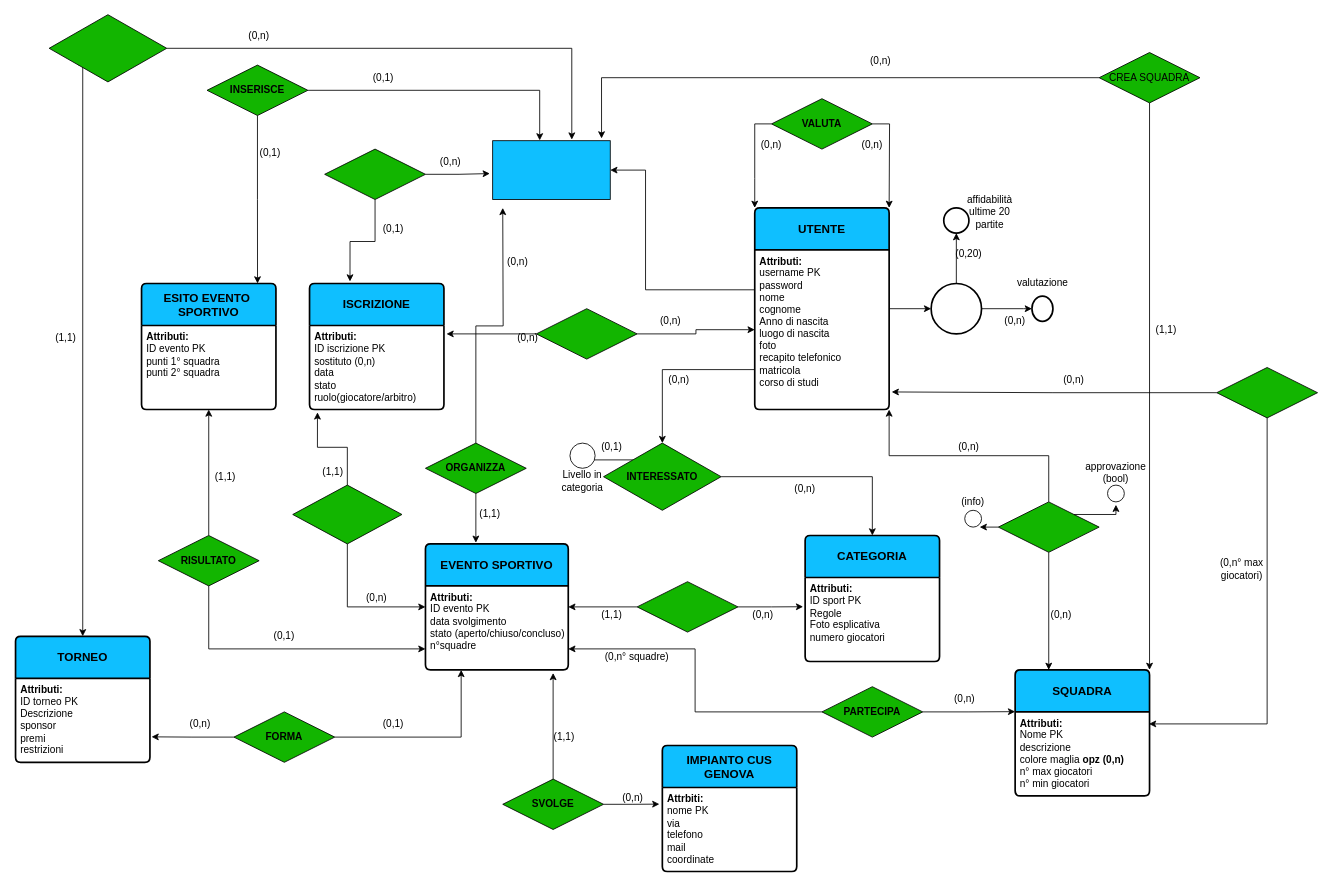
This 1332x893 diagram has some shape labels left out. Each missing label, with the centre of its shape:
"APPARTIENE" belongs at (687,606).
"ATTIVA" belongs at (586,333).
"CANDIDATURA" belongs at (1048,526).
"Carriera" belongs at (956,308).
"CREA TORNEO" belongs at (107,48).
"DECIDE STATO" belongs at (374,174).
"FA PARTE" belongs at (1267,392).
"PARTECIPAZIONE" belongs at (347,514).
"PREMIUM (sottoclasse di utente)" belongs at (551,170).
